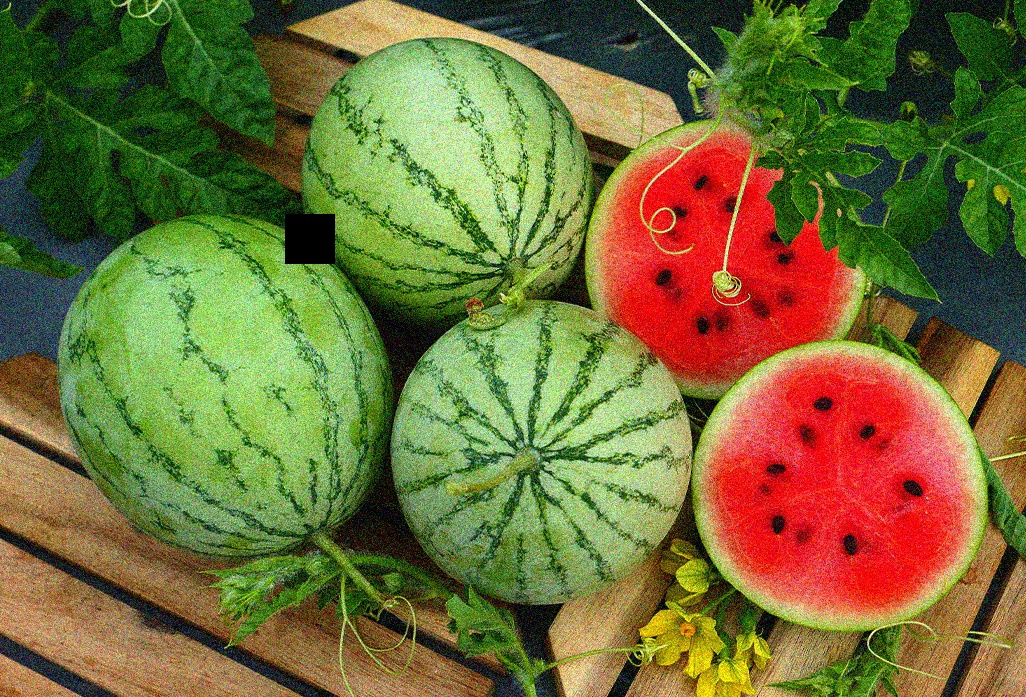watermelon: (54, 222, 392, 559), (397, 297, 693, 620), (292, 37, 590, 316)
